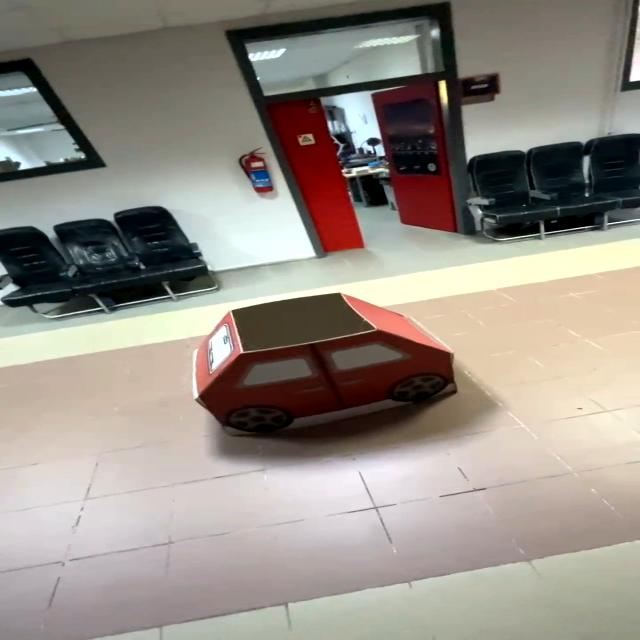red_car: (128, 275, 514, 467)
